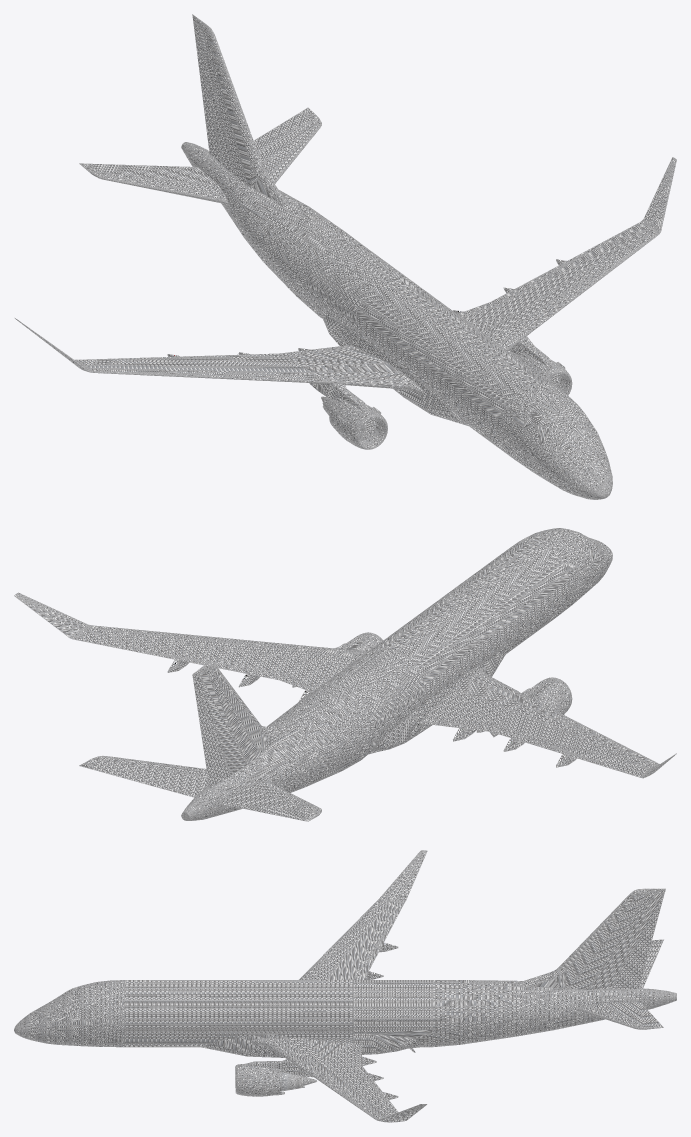
The model's file is RFSL_Embraer_E175NW_MSFS_LOD1.gltf.
3 renders of one model, top to bottom at view 1: azimuth 30°, elevation 25°; view 2: azimuth 150°, elevation 25°; view 3: azimuth 270°, elevation 25°, orthographic. The views are drawn at different scales.
Visible parts, largest first — view 1: node3; view 2: node3; view 3: node3.
Boxes of the visible parts, left/top/right/bottom form: node3: left=15, top=14, right=676, bottom=499; node3: left=14, top=528, right=676, bottom=821; node3: left=14, top=850, right=676, bottom=1122.
Size of the model in its own units: 28.69 by 9.02 by 31.67.
